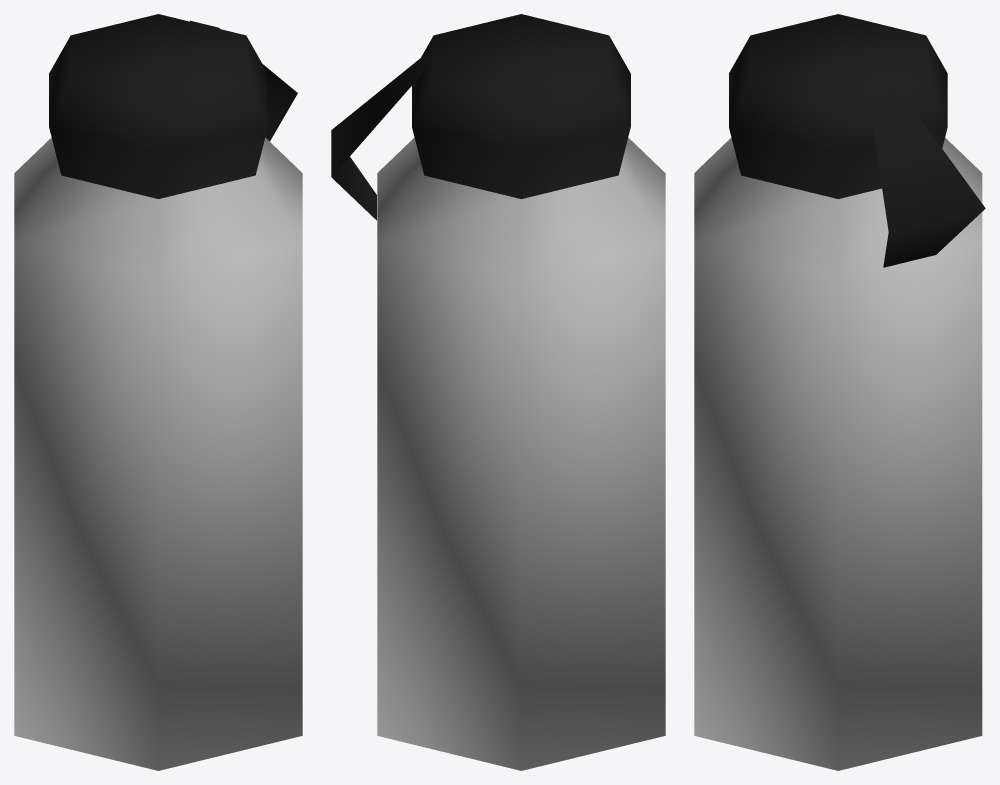
The model's file is Bottle_C.FBX.
The picture shows the model from 3 angles, left to right: view 1: azimuth 30°, elevation 25°; view 2: azimuth 150°, elevation 25°; view 3: azimuth 270°, elevation 25°; orthographic projection.
Parts seen in each view (by area): view 1: Bottle; view 2: Bottle; view 3: Bottle.
Part boxes in pixels (x1=…): Bottle: x1=14, y1=14, x2=302, y2=770; Bottle: x1=331, y1=14, x2=665, y2=770; Bottle: x1=694, y1=14, x2=985, y2=770.
Size of the model in its own units: 38.23 by 76.16 by 31.27.
